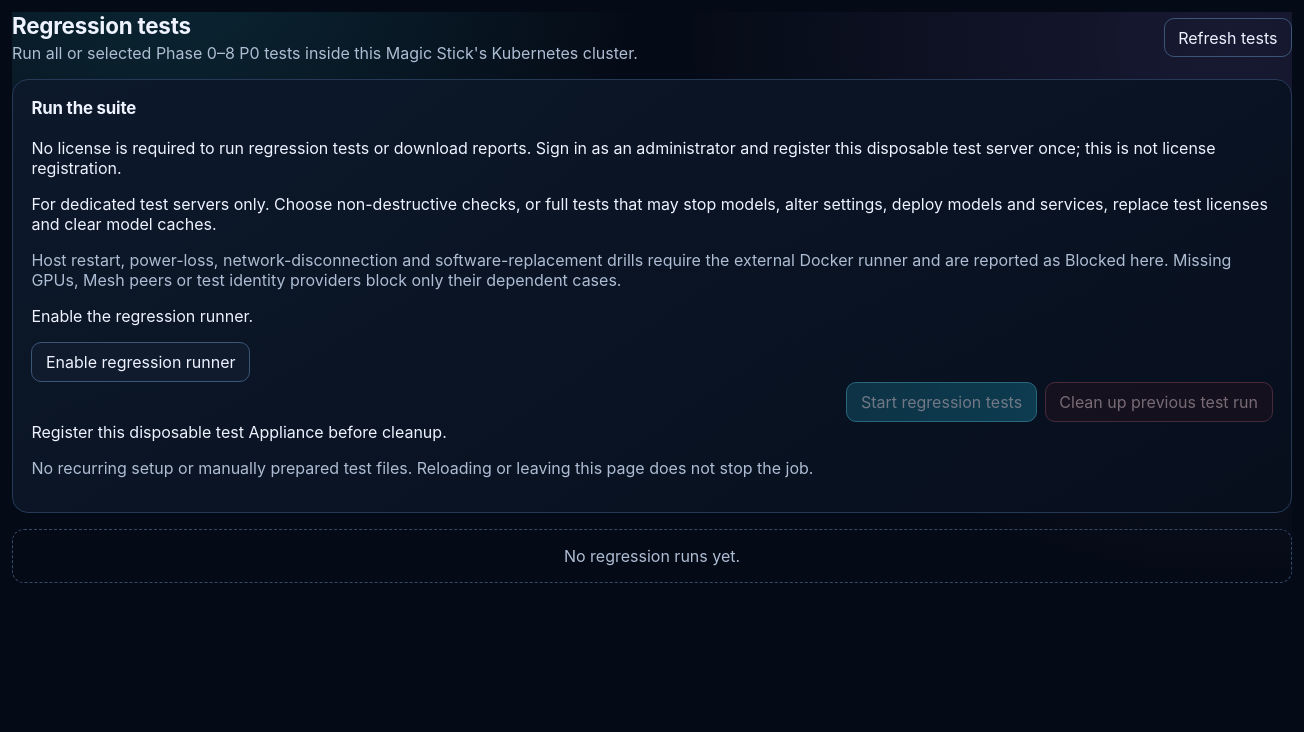
Test: In-Appliance regression tests › shows activation request and readiness separately and prevents duplicate enables
Click the button "Enable regression runner" at coordinates (141, 362), box [31,342,250,382]
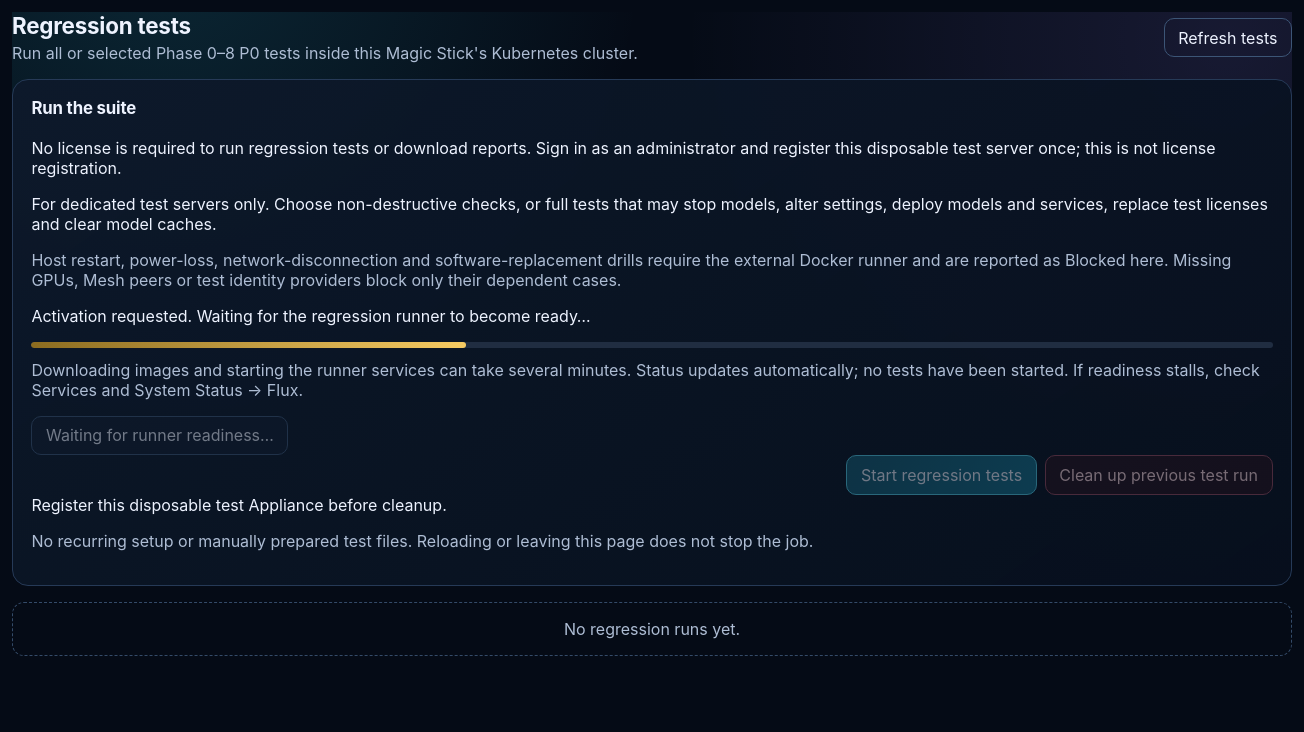
Now the button named "Enabling regression runner…" is disabled
Now the button "Waiting for runner readiness…" is disabled
Now the text "Activation requested. Waiting for the regression runner to become ready…" is shown, box [31,306,591,326]
Click the button "Waiting for runner readiness…" at coordinates (160, 435), box [31,416,288,455]
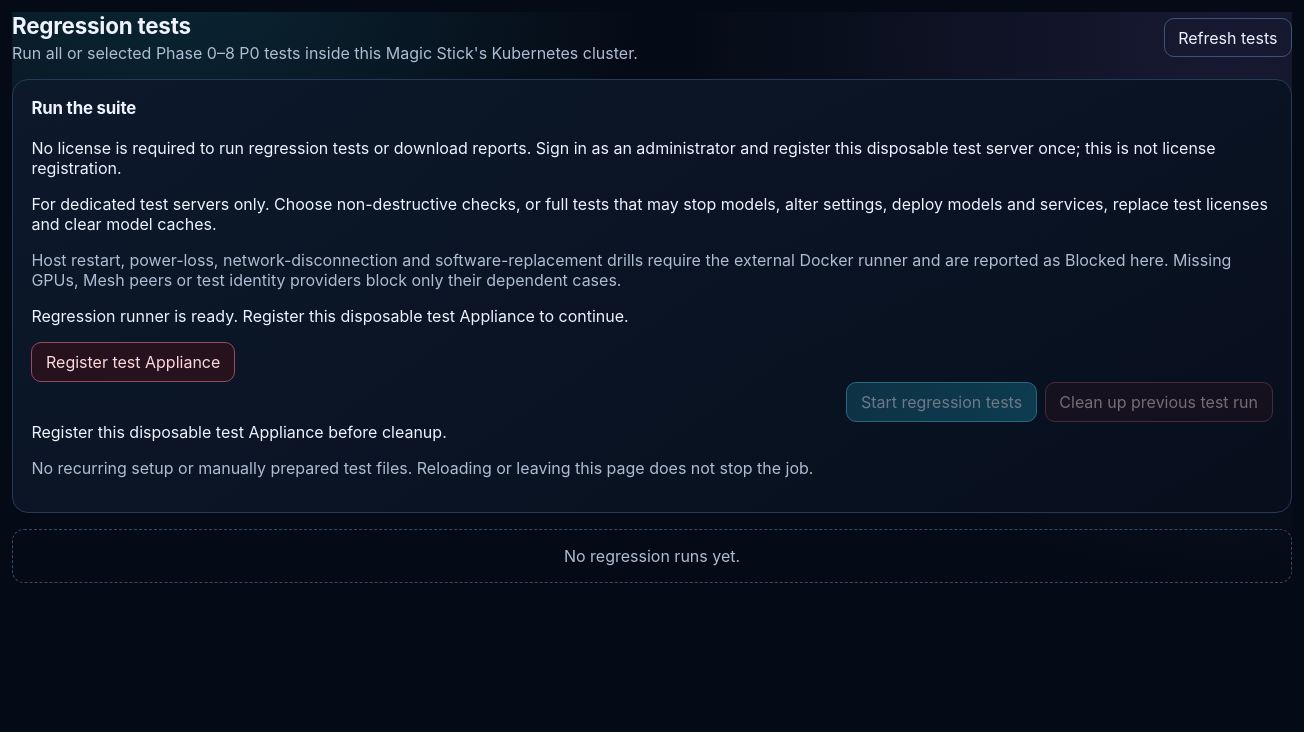
Now the text "Regression runner is ready. Register this disposable test Appliance to continue." is shown, box [31,306,629,326]
Now the button "Register test Appliance" is enabled, box [31,342,235,382]
